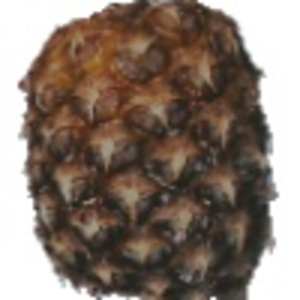abacaxi: (15, 4, 280, 294)
